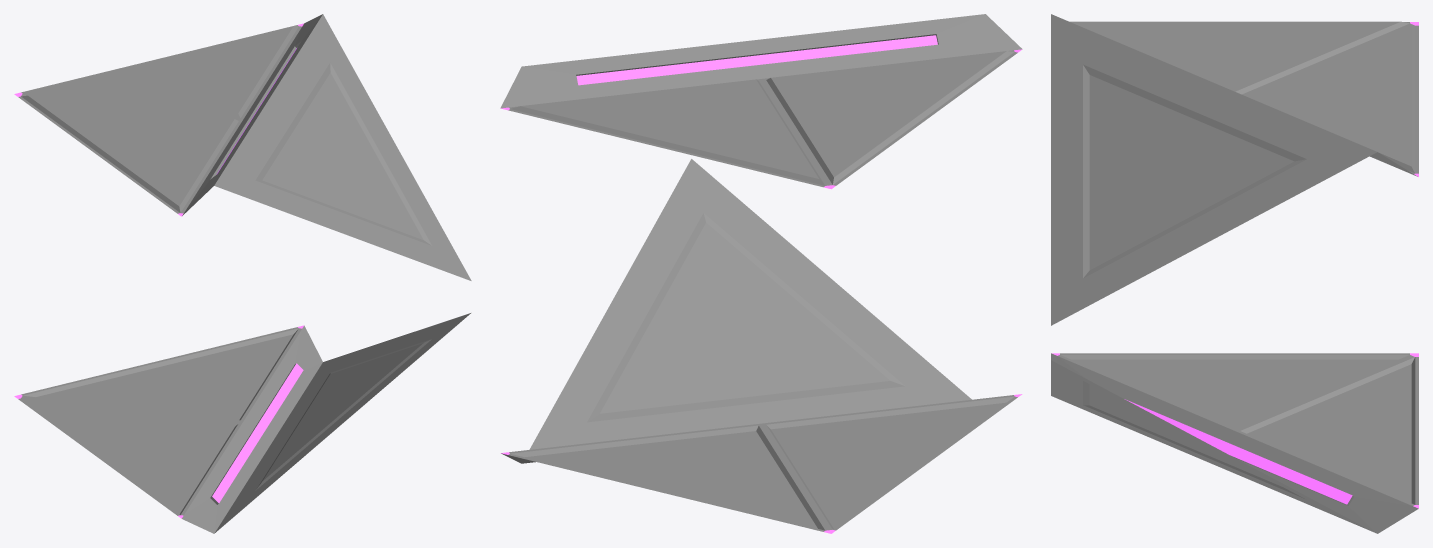
The model's file is SZ_GroundSideCornerInverted.FBX.
3 renders of one model, left to right at view 1: azimuth 30°, elevation 25°; view 2: azimuth 150°, elevation 25°; view 3: azimuth 270°, elevation 25°, orthographic. The views are drawn at different scales.
Visible parts, largest first — view 1: SZ_GroundSideCornerInverted; view 2: SZ_GroundSideCornerInverted; view 3: SZ_GroundSideCornerInverted.
Boxes of the visible parts, bbox=[...] form: SZ_GroundSideCornerInverted: bbox=[14, 14, 471, 533]; SZ_GroundSideCornerInverted: bbox=[500, 14, 1022, 533]; SZ_GroundSideCornerInverted: bbox=[1051, 14, 1418, 533].
Size of the model in its own units: 100 by 100 by 115.
